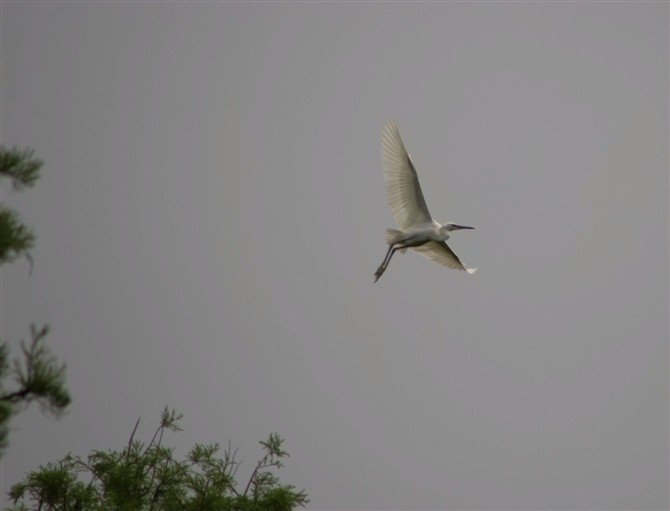bird: (367, 121, 479, 281)
